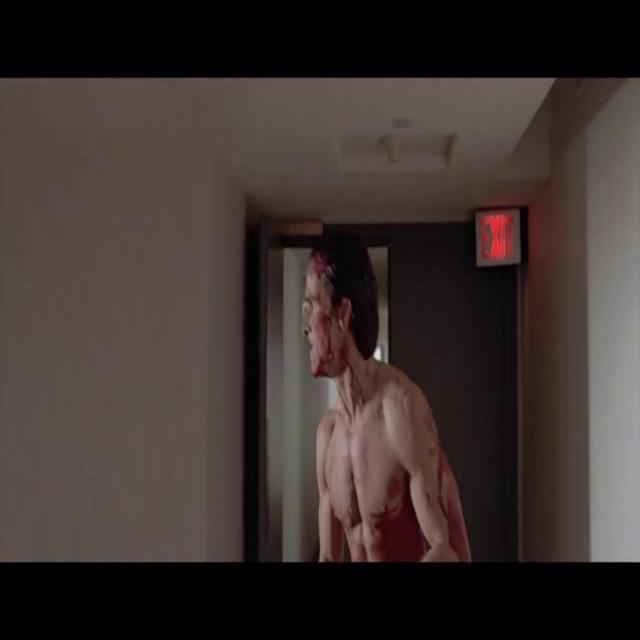flood: (298, 236, 362, 364), (436, 428, 478, 554), (362, 489, 406, 554)
